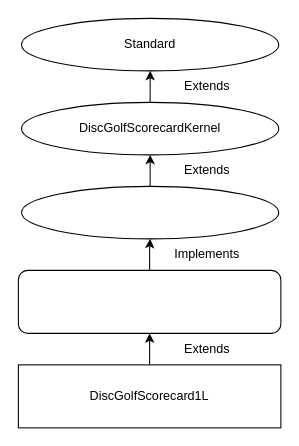
Image size: 299x446. Some labels were removed from this diagram. The box of each missing label's shape, as (x1, y1, x2, y2) in pixels:
DiscGolfScorecard: (20, 185, 279, 239)
DiscGolfScorecardSecondary: (17, 269, 281, 333)
